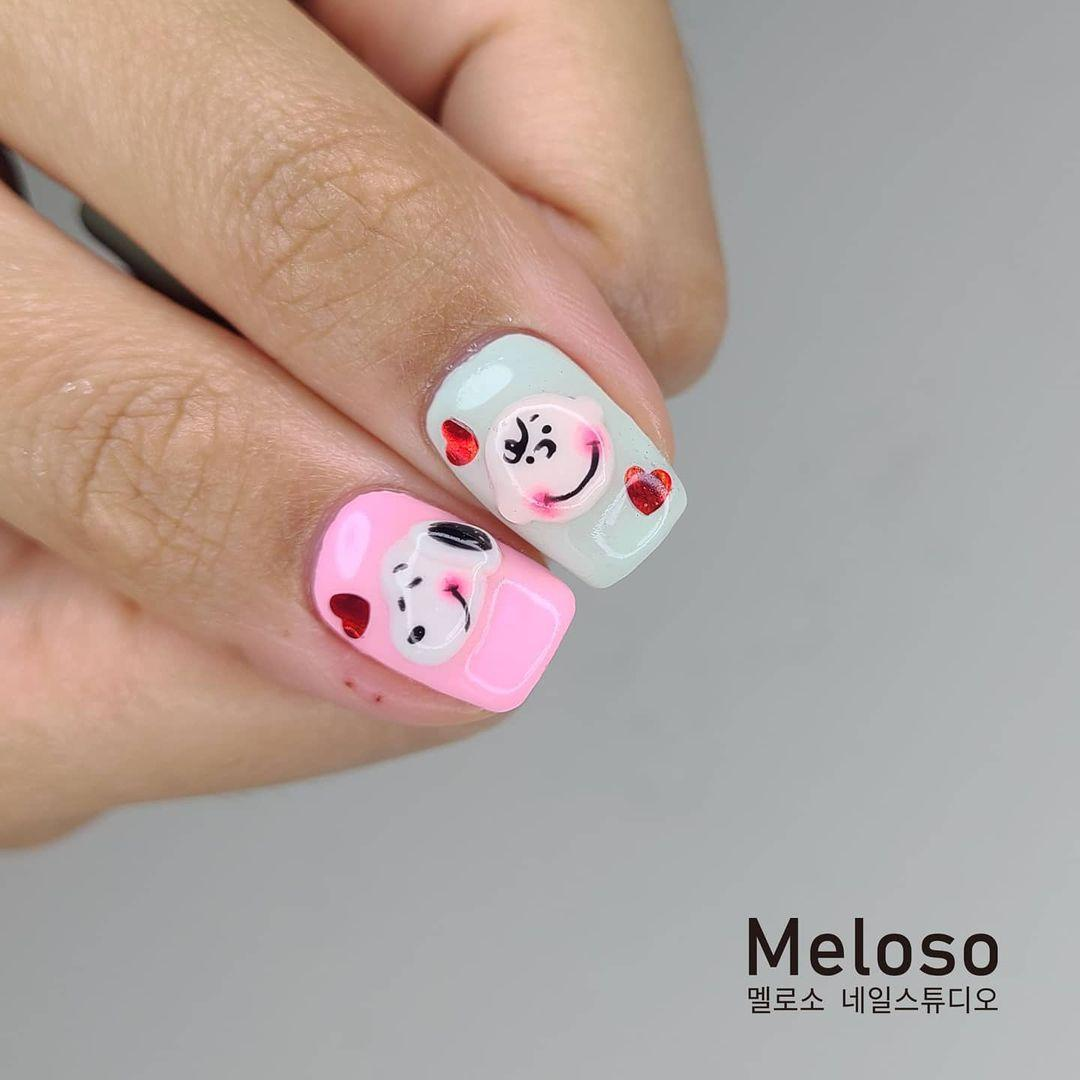nail: (422, 327, 688, 590), (308, 485, 576, 714)
